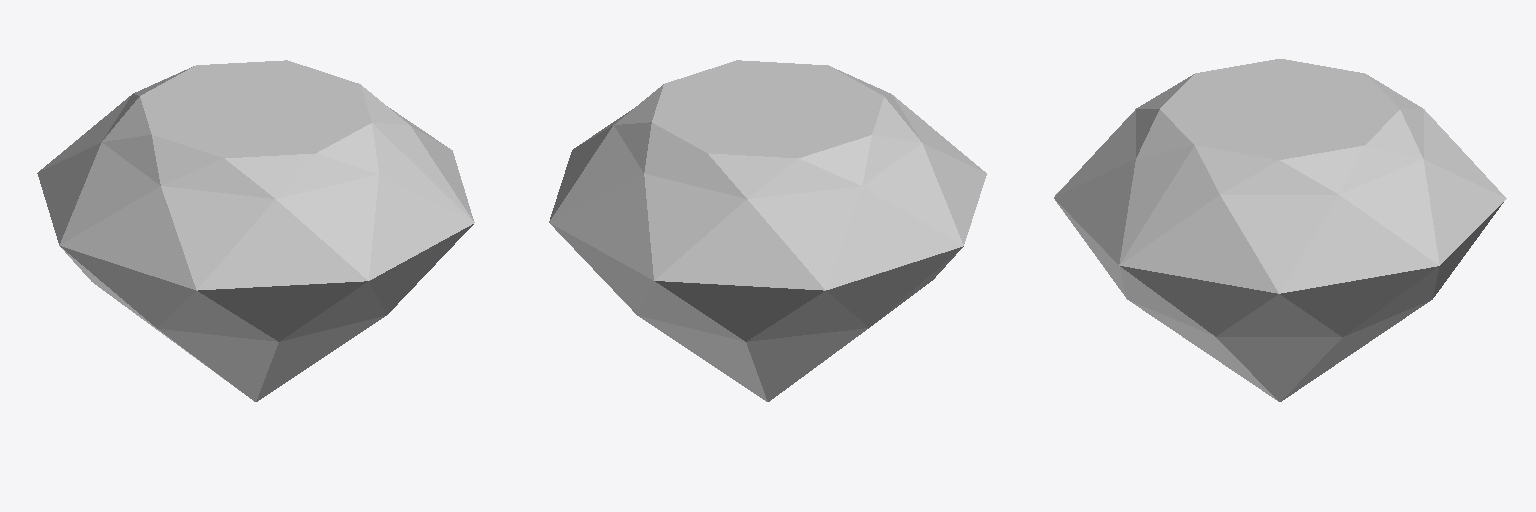
Rendered from diamond.obj.
The picture shows the model from 3 angles: view 1: azimuth 30°, elevation 25°; view 2: azimuth 150°, elevation 25°; view 3: azimuth 270°, elevation 25°; orthographic projection.
Bounding box in the file's own units: 25.68 × 18.33 × 25.68.